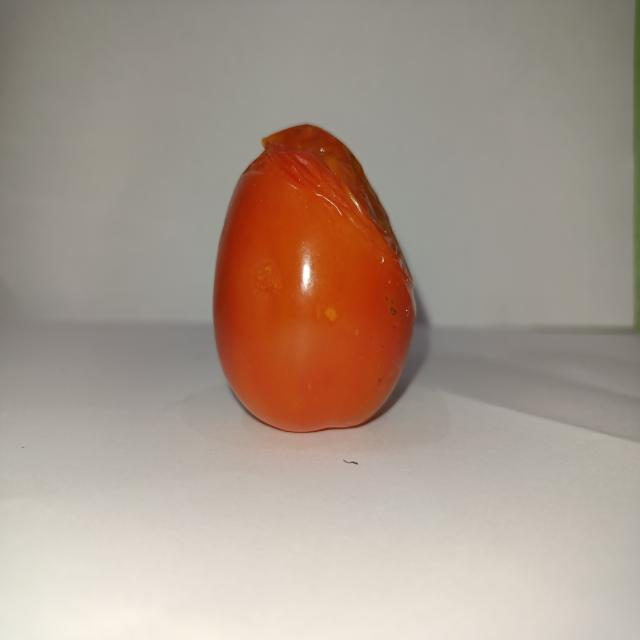Red: (210, 122, 417, 433)
